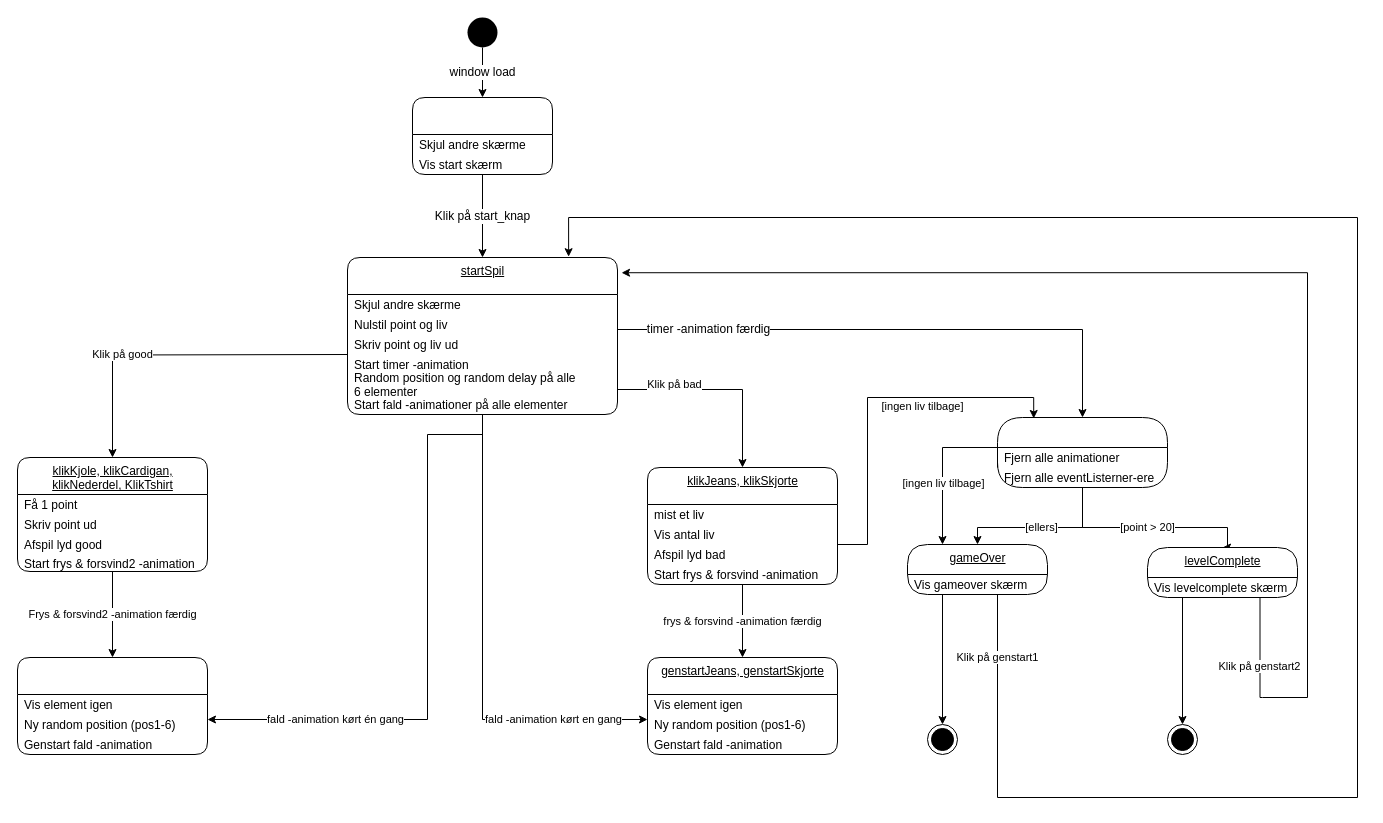
Some shapes in this 1383 by 823 pixel diagram are drawn without their labels. Each missing label, with the box of its shape:
genstartKjole,genstartCardigan, genstartNederdel, genstartTshirt: (16, 656, 208, 754)
sidenVises: (412, 96, 552, 174)
stopSpillet: (996, 416, 1168, 488)
